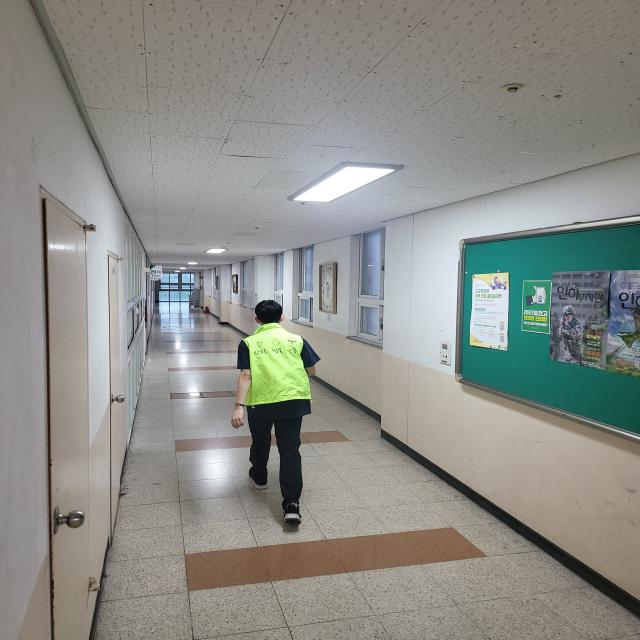weston_spy: (216, 315, 343, 420)
